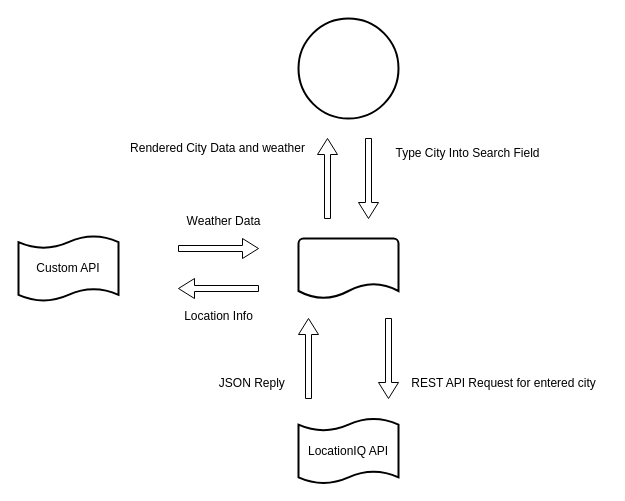
Image size: 625x501. Some labels were removed from this diagram. The centre of each missing label's shape, as x and y in pixels:
"City Search" belongs at point (348, 268).
"User" belongs at point (348, 68).
